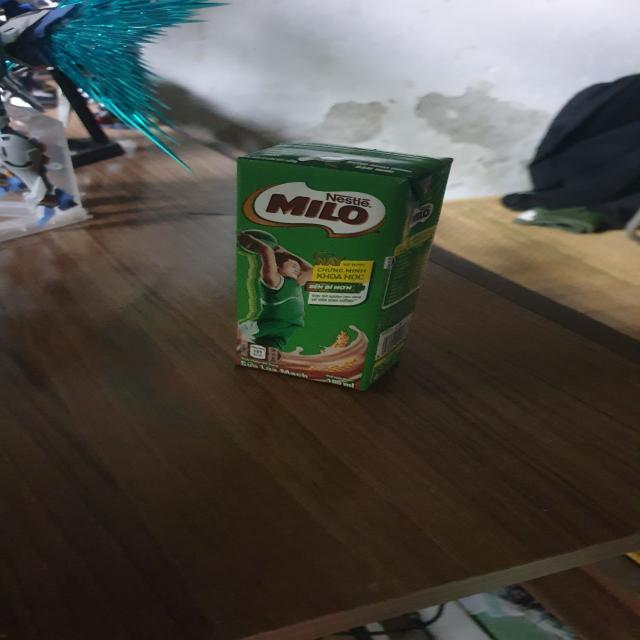Milo: (235, 136, 453, 393)
